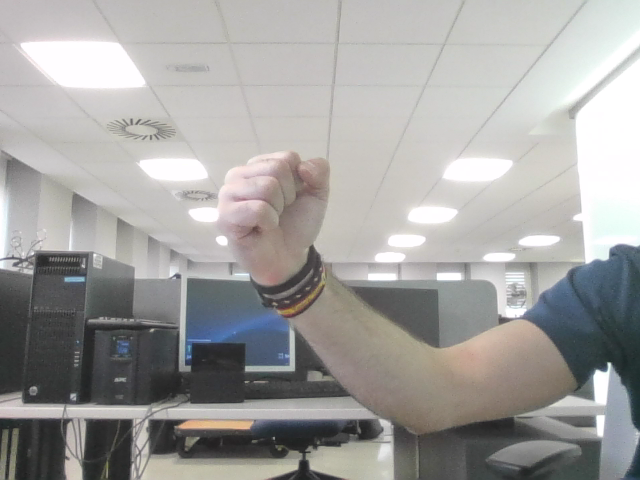Puño: (229, 157, 317, 226)
